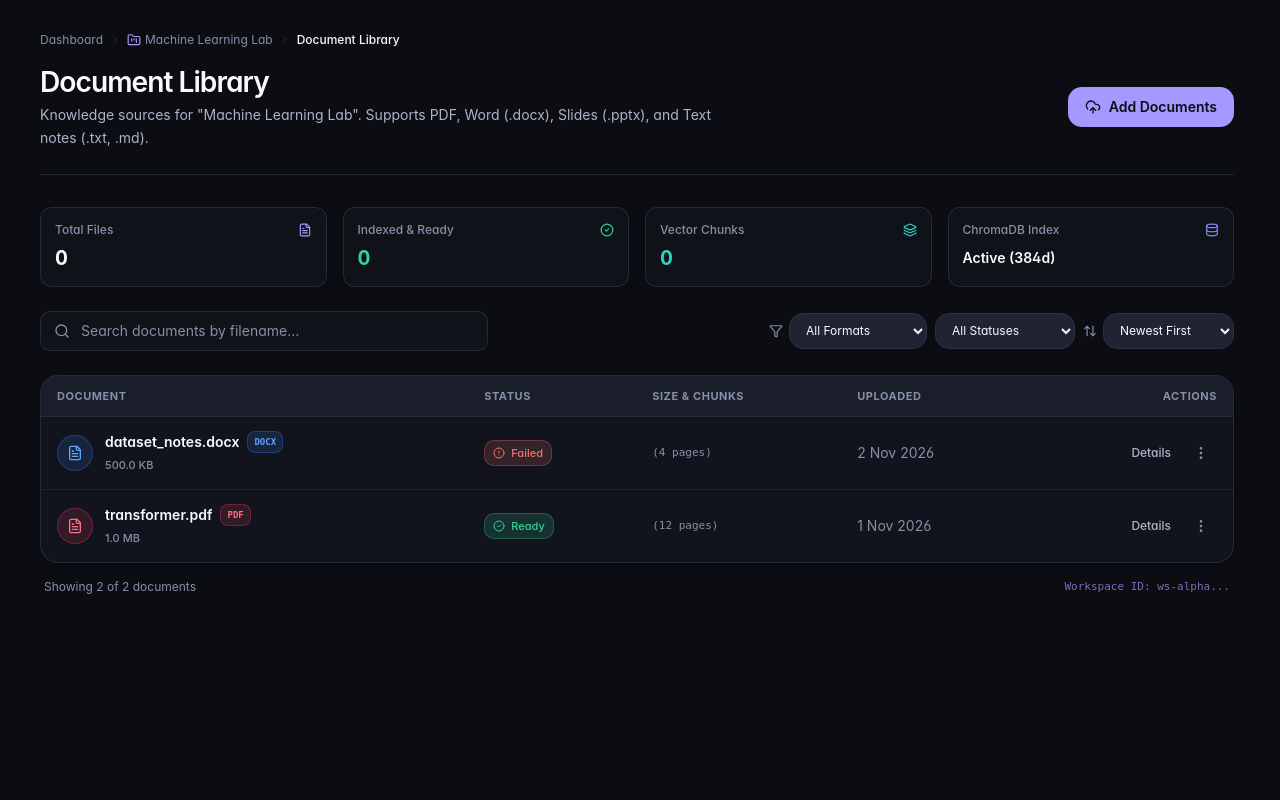
DocumentsPage Component › filters documents when user types into search input
The width and height of the screenshot is (1280, 800).
Type "dataset" into the field with placeholder "Search documents by filename...". click: (264, 330)
box: x1=40 y1=310 x2=488 y2=350
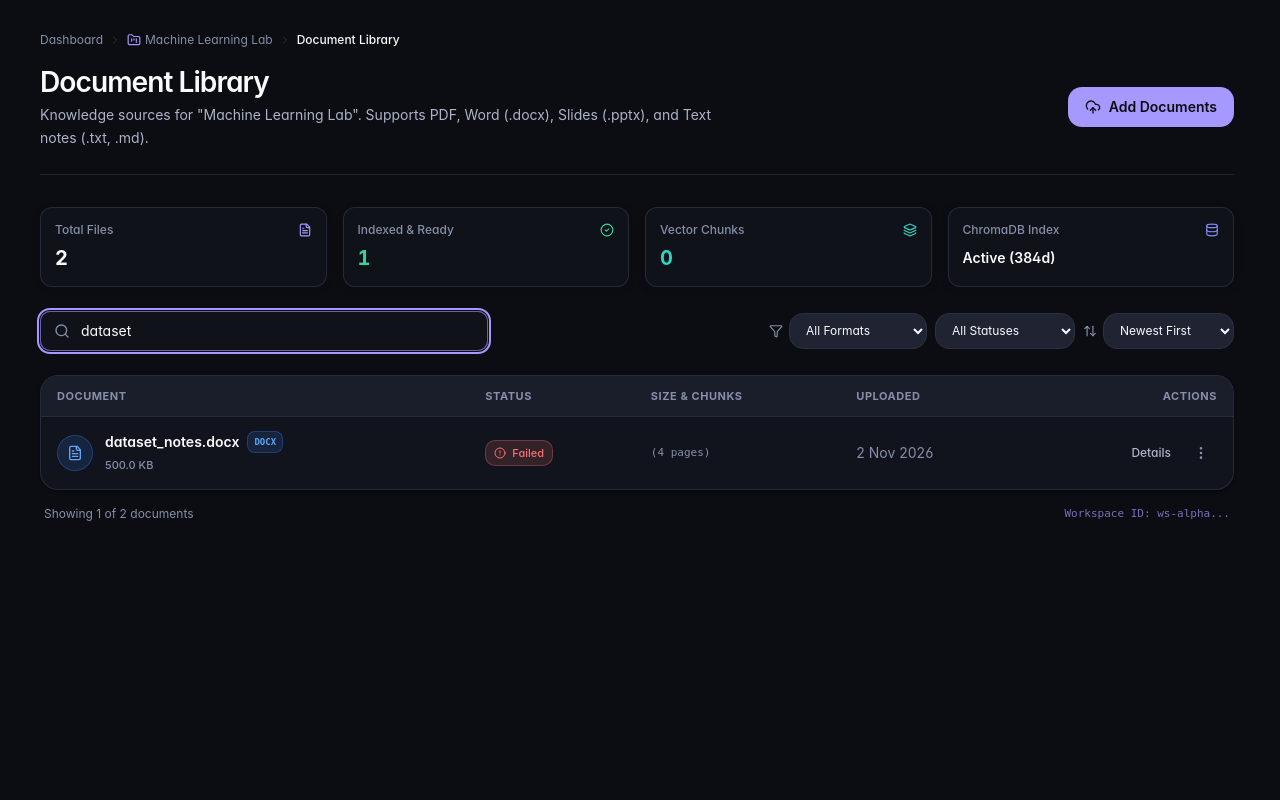
Expected: the text "transformer.pdf" is gone
